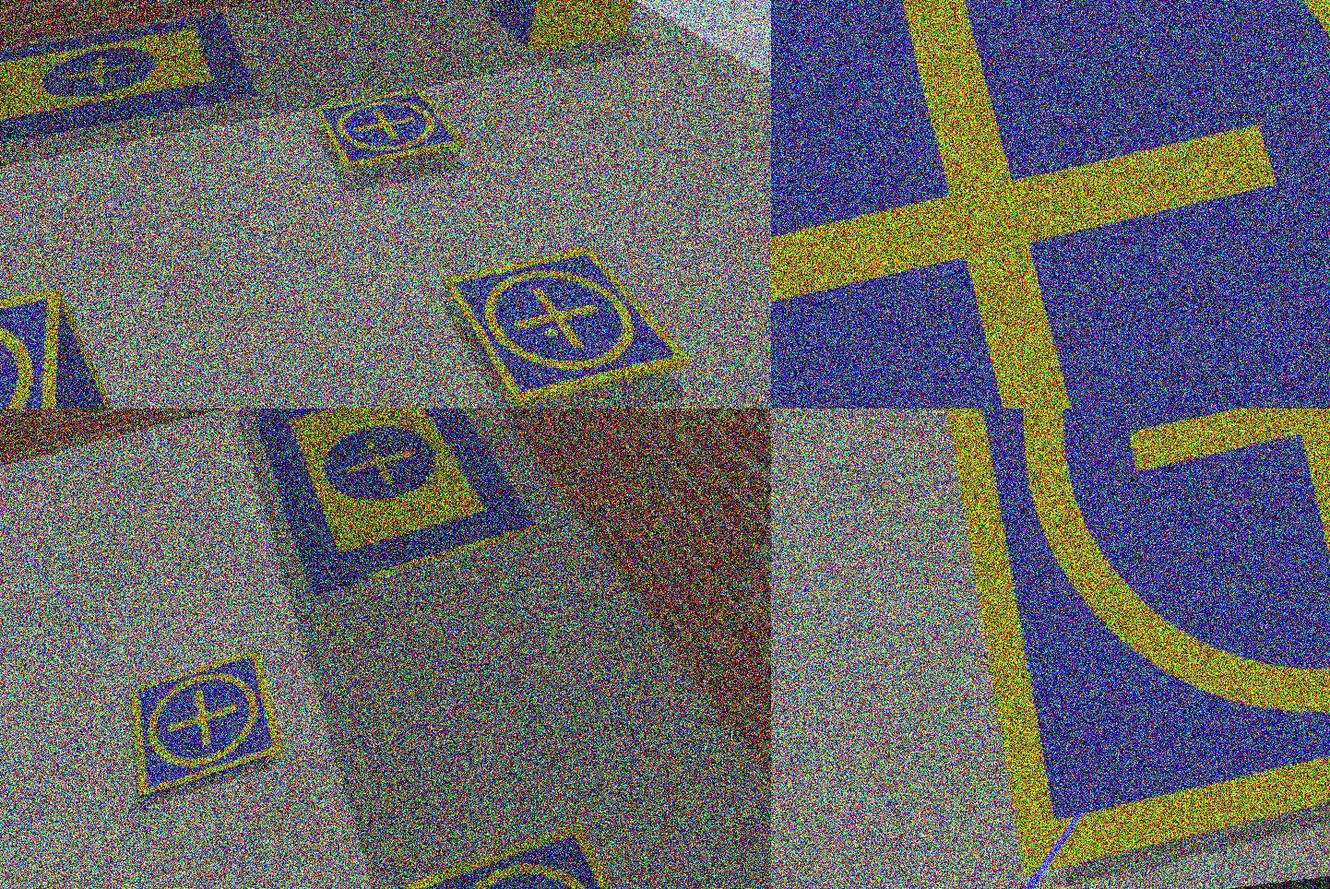large_base: (249, 409, 540, 604), (1, 7, 261, 154)
small_base: (771, 1, 1330, 409), (900, 409, 1330, 887), (437, 232, 698, 409), (113, 650, 286, 800), (403, 817, 681, 889), (314, 82, 469, 174)
